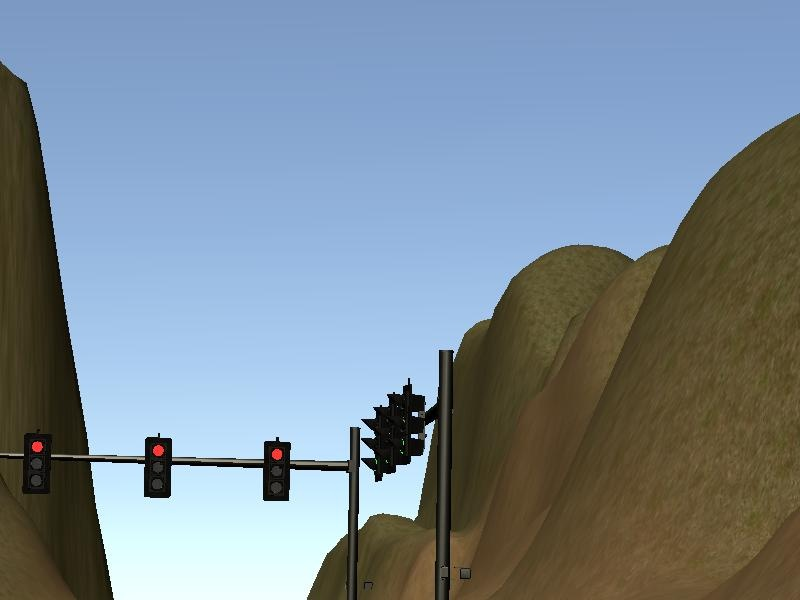red: (138, 428, 175, 502), (260, 433, 294, 507), (19, 427, 52, 497)
